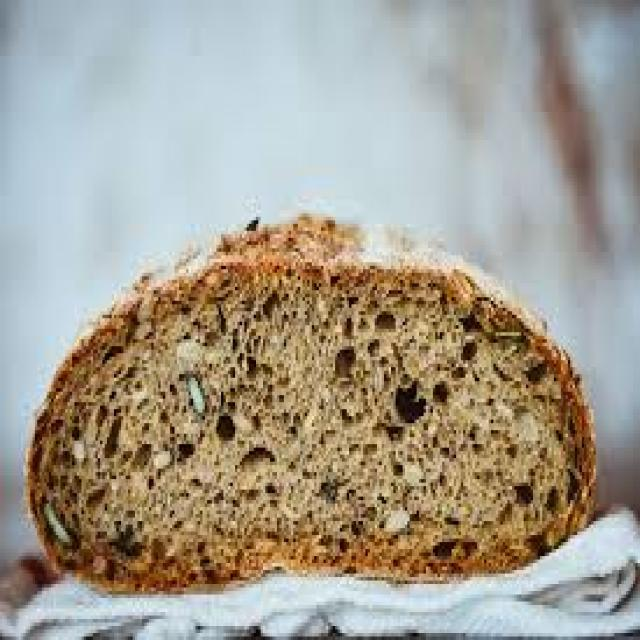organic waste: (19, 210, 594, 587)
